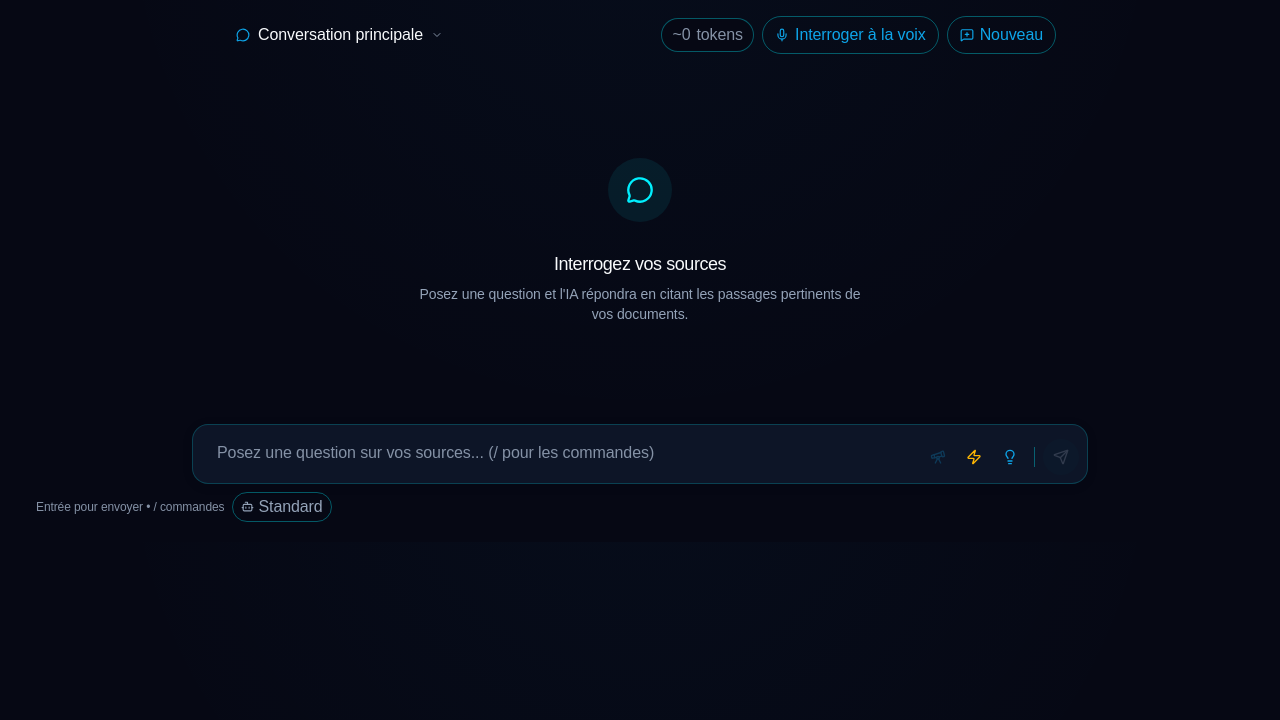
Test: NotebookChat — envoi de message (caractérisation) › affiche le message de l'utilisateur et émet un POST vers /chat/stream
Step 1. Type "Quelle est la thèse principale ?" into the text box with placeholder "Posez une question sur vos sources... (/ pour les commandes)" → (558, 454), box [201,425,914,483]
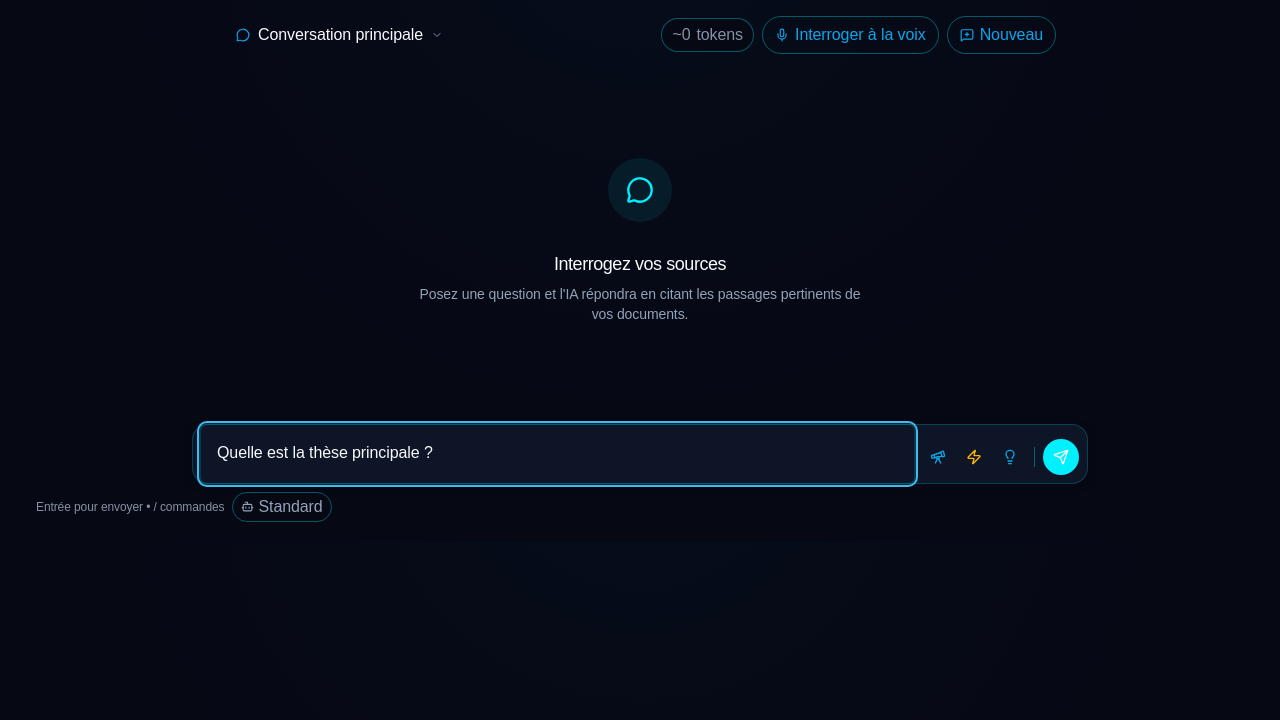
Step 2. Press Enter
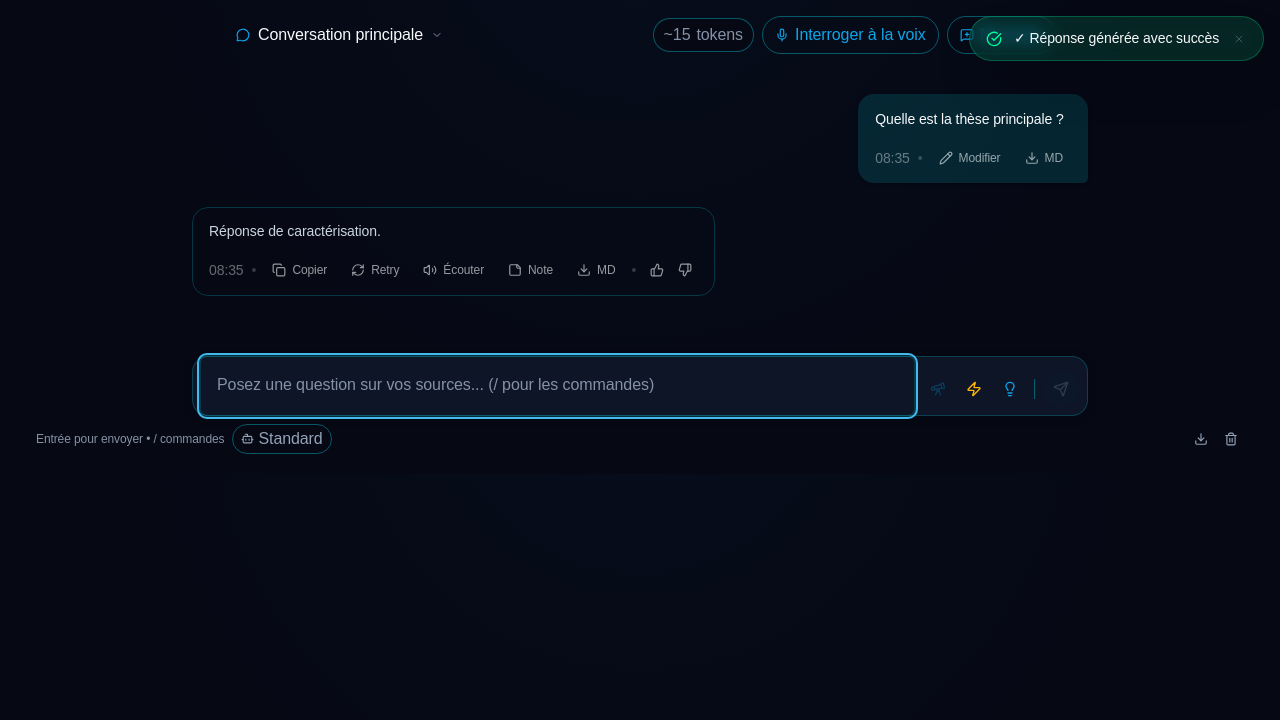
Expected: the text "Quelle est la thèse principale ?" is shown, [875,107,1071,132]
Expected: the text "Réponse de caractérisation." is shown, [209,222,381,238]
Expected: the text "✓ Réponse générée avec succès" is shown, [1014,29,1219,48]
